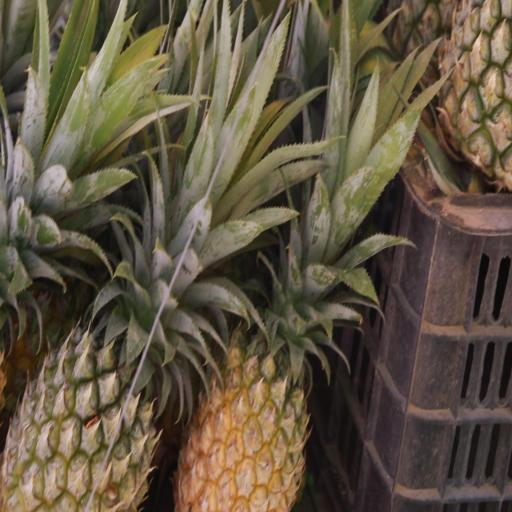Pineapple - v8 v1: (171, 299, 314, 512)
